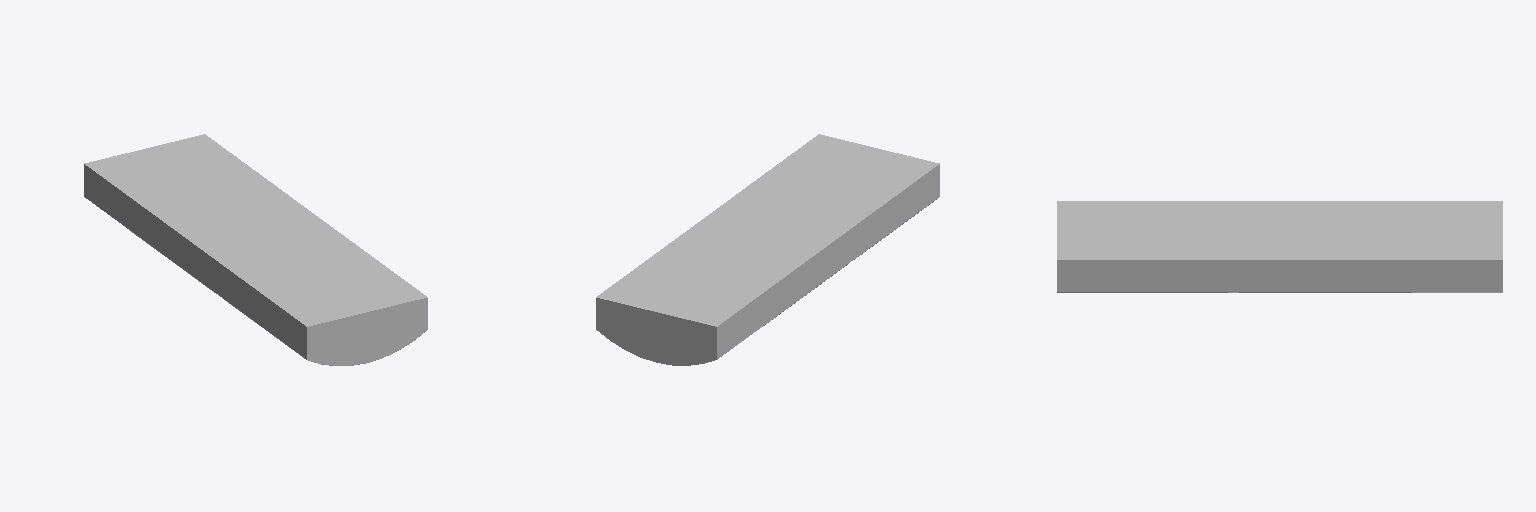
The model's file is RoadLight7.obj.
3 renders of one model, left to right at view 1: azimuth 30°, elevation 25°; view 2: azimuth 150°, elevation 25°; view 3: azimuth 270°, elevation 25°, orthographic.
Size of the model in its own units: 0.9406 by 0.378 by 3.